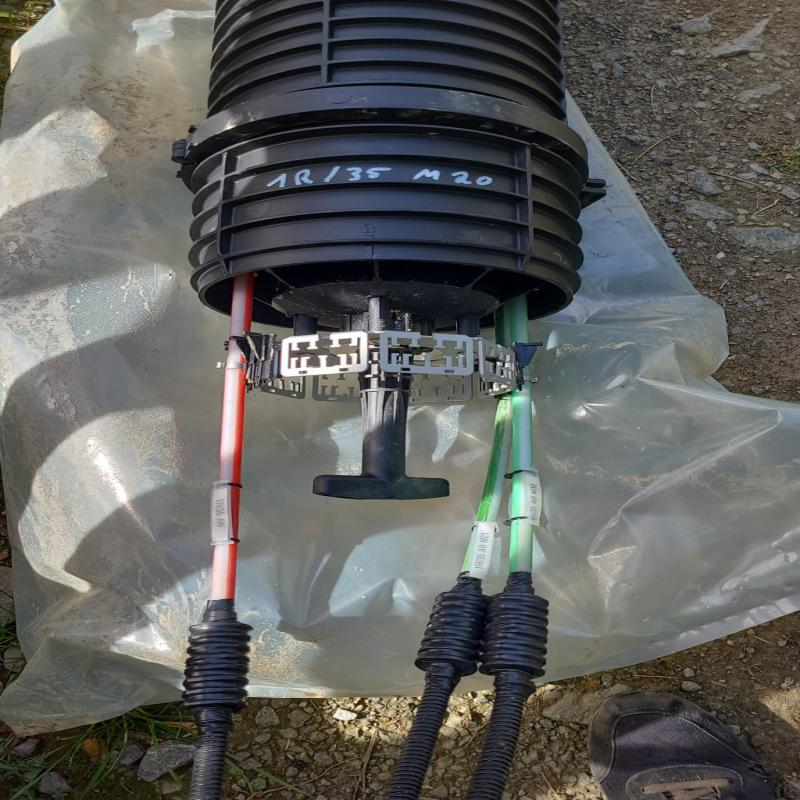NT-Muffen: (201, 0, 615, 603)
